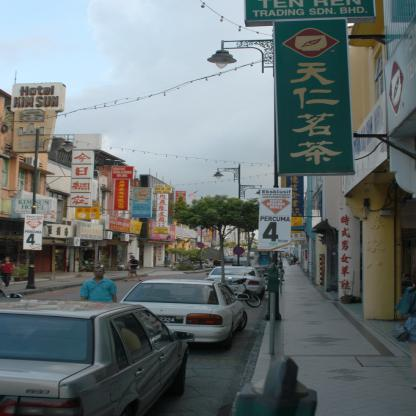Car: (0, 297, 196, 415), (114, 280, 254, 352), (208, 263, 264, 296), (232, 258, 250, 266), (225, 256, 233, 261)
